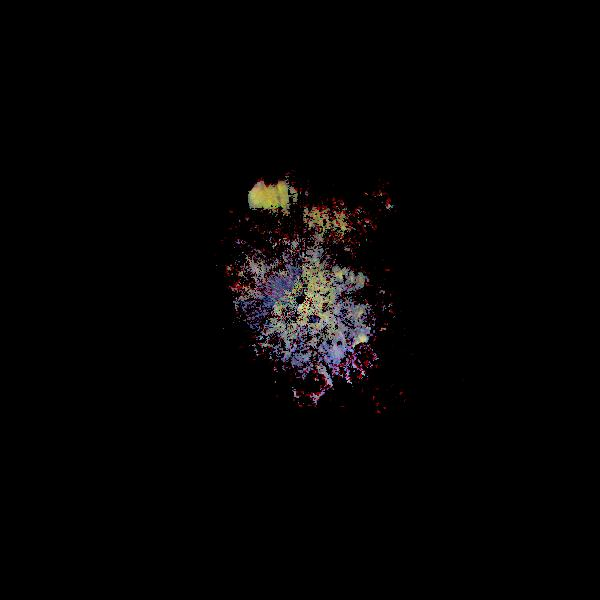roost: (275, 346, 341, 412), (248, 166, 302, 220)
